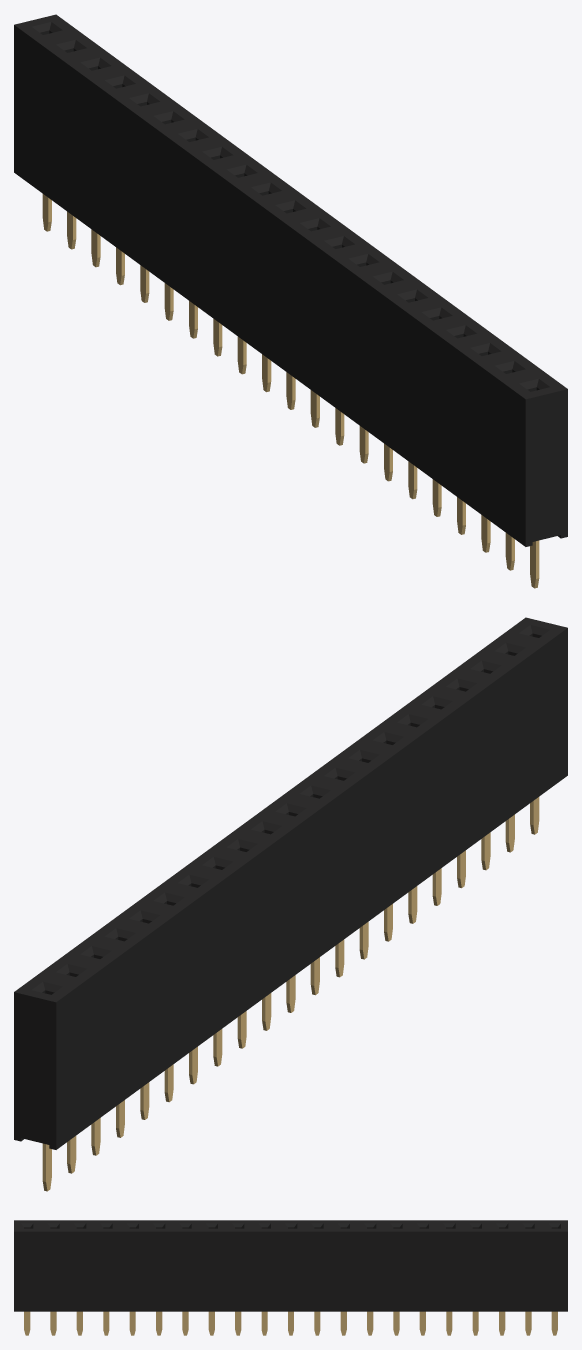
Rendered from kc-pinsocket_1x21_p2.54mm_vertical.glb.
3 renders of one model, top to bottom at view 1: azimuth 30°, elevation 25°; view 2: azimuth 150°, elevation 25°; view 3: azimuth 270°, elevation 25°, orthographic. The views are drawn at different scales.
Parts seen in each view (by area): view 1: 0_0_0_0, 0.75_0.5_0.25_0.9; view 2: 0_0_0_0, 0.75_0.5_0.25_0.9; view 3: 0_0_0_0, 0.75_0.5_0.25_0.9.
Boxes of the visible parts, left/top/right/bottom form: 0_0_0_0: left=14, top=14, right=567, bottom=546; 0.75_0.5_0.25_0.9: left=42, top=194, right=539, bottom=588; 0_0_0_0: left=14, top=617, right=567, bottom=1149; 0.75_0.5_0.25_0.9: left=42, top=797, right=539, bottom=1191; 0_0_0_0: left=14, top=1220, right=567, bottom=1311; 0.75_0.5_0.25_0.9: left=24, top=1311, right=557, bottom=1335.
Size of the model in its own units: 0.2539 by 1.16 by 5.33.
